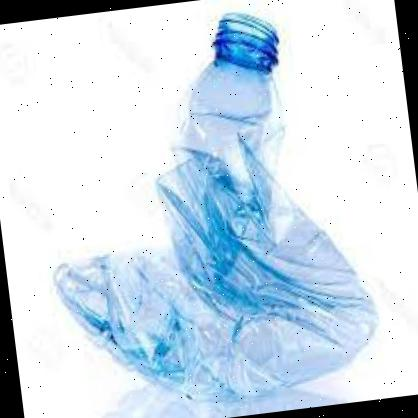bottle: (16, 0, 392, 414)
